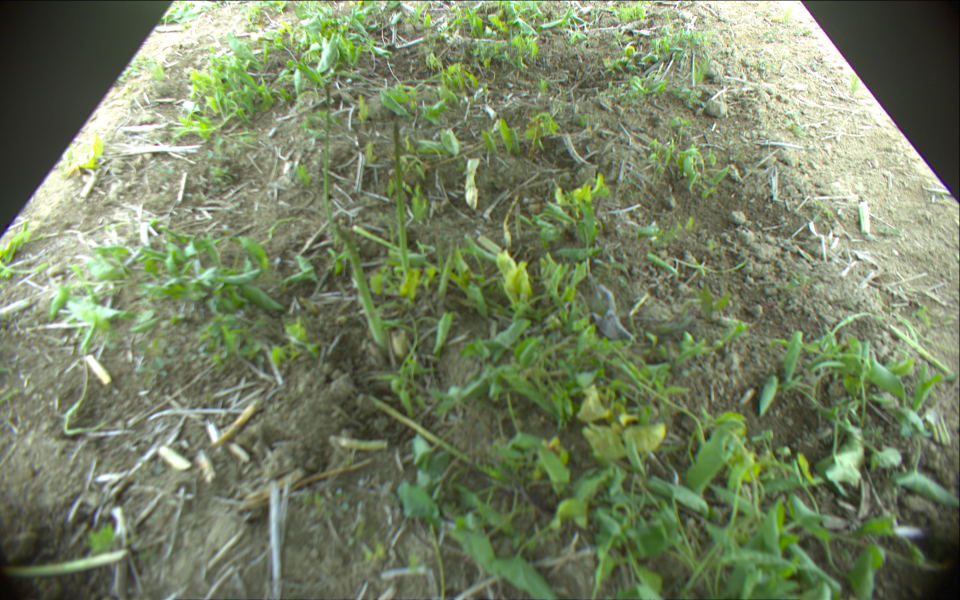aspa: (367, 395, 502, 481), (339, 230, 385, 348), (391, 119, 413, 274), (1, 552, 128, 576), (320, 79, 335, 233)
